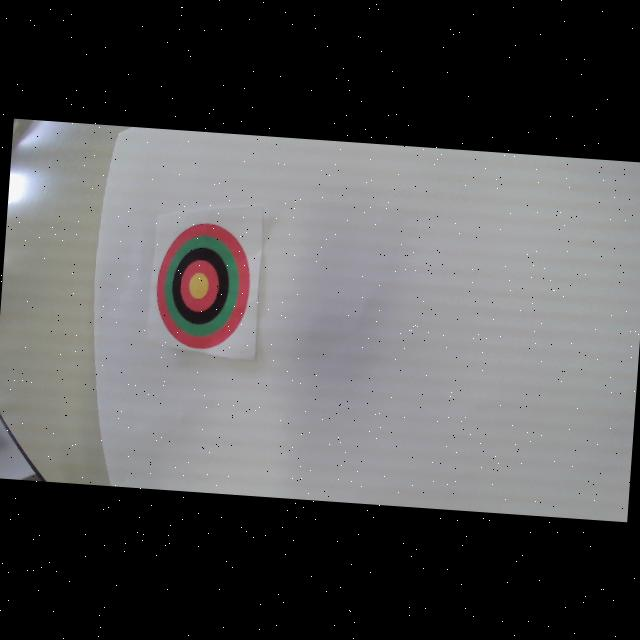COGNITIVE: (152, 220, 254, 352)
